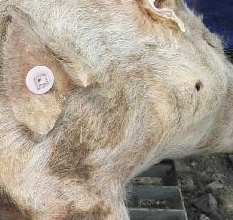text: (17, 57, 68, 105)
